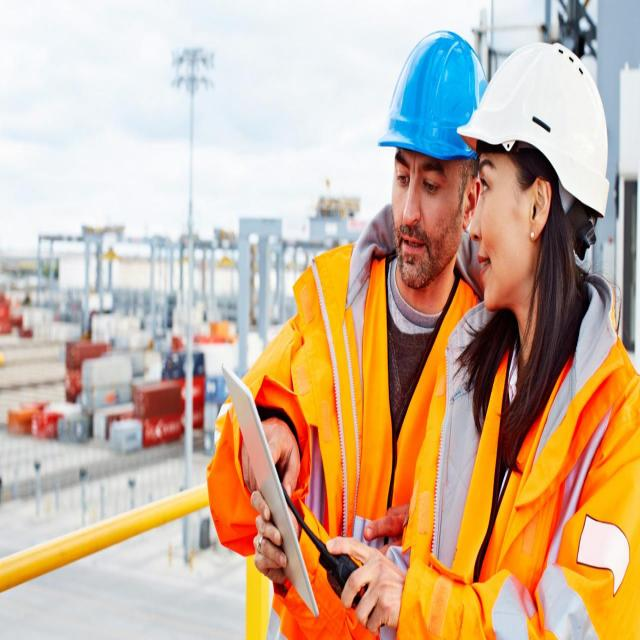Reflective-Jacket: (245, 250, 475, 634), (431, 308, 637, 639)
Safety-Helmet: (460, 35, 614, 217), (376, 24, 486, 164)
